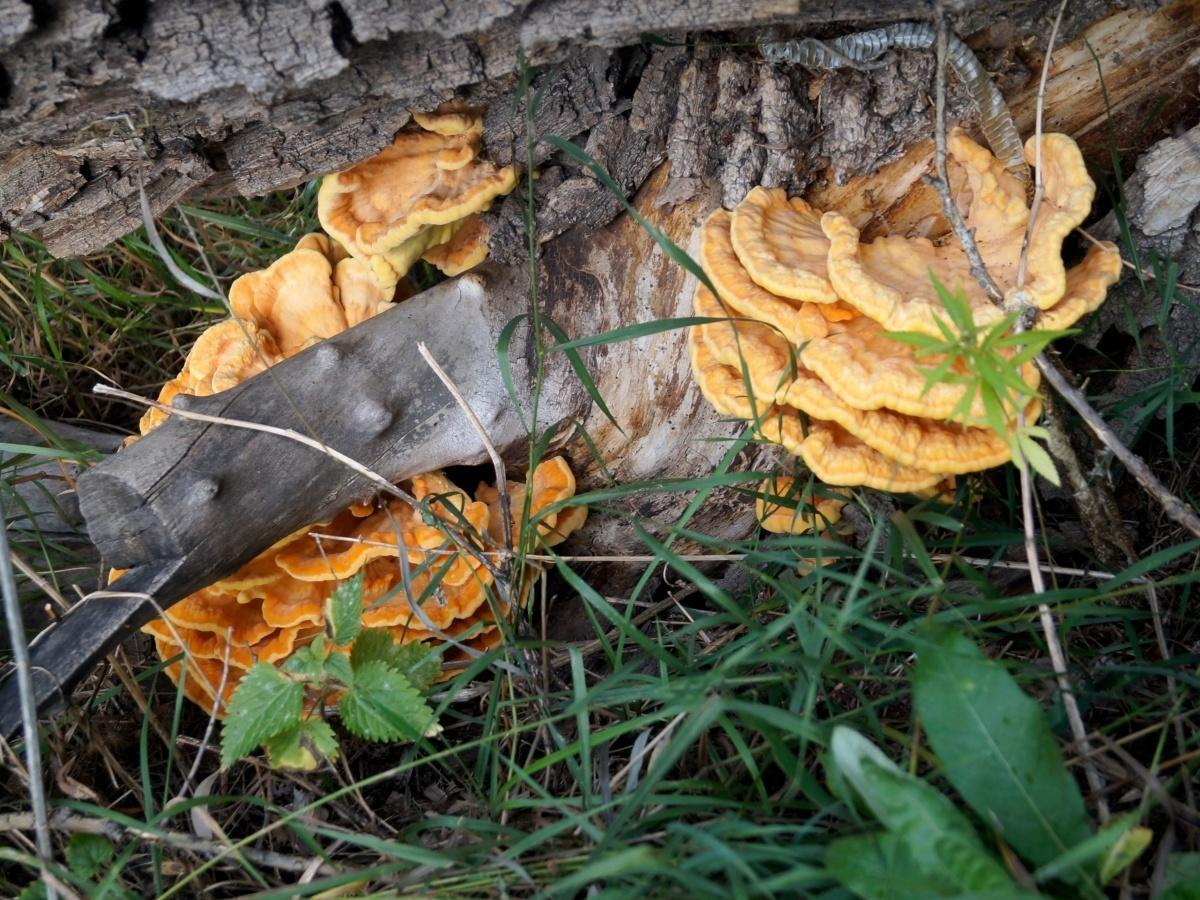Sulphur-yellow tinder fungus: (688, 188, 1009, 491), (144, 472, 505, 714), (144, 472, 499, 710), (159, 234, 393, 403), (318, 105, 515, 286)
